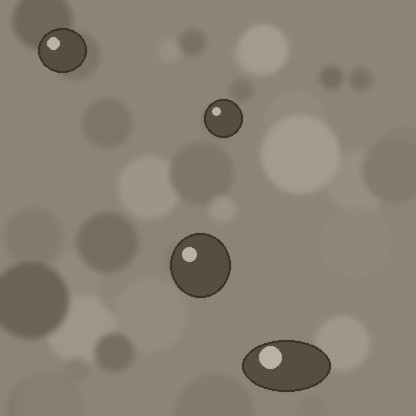gota: (242, 342, 330, 396), (170, 235, 230, 303), (38, 30, 86, 76), (204, 100, 242, 140)
